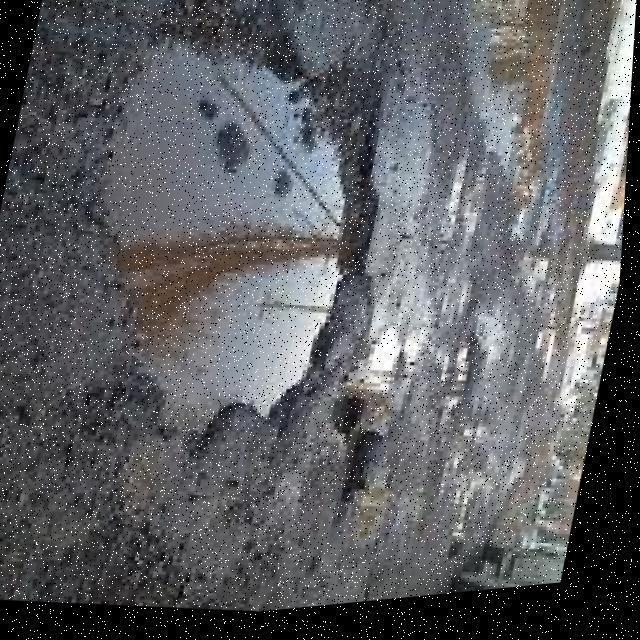Pothole: (96, 41, 378, 456)
